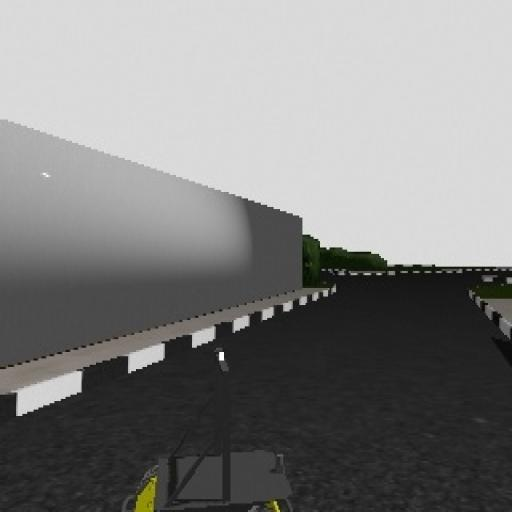huskya200: (110, 340, 295, 512)
